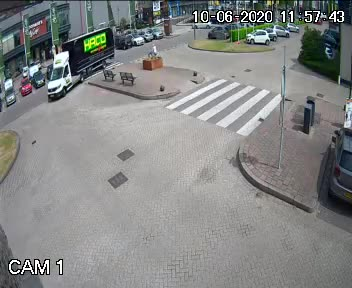car: (37, 26, 125, 99)
